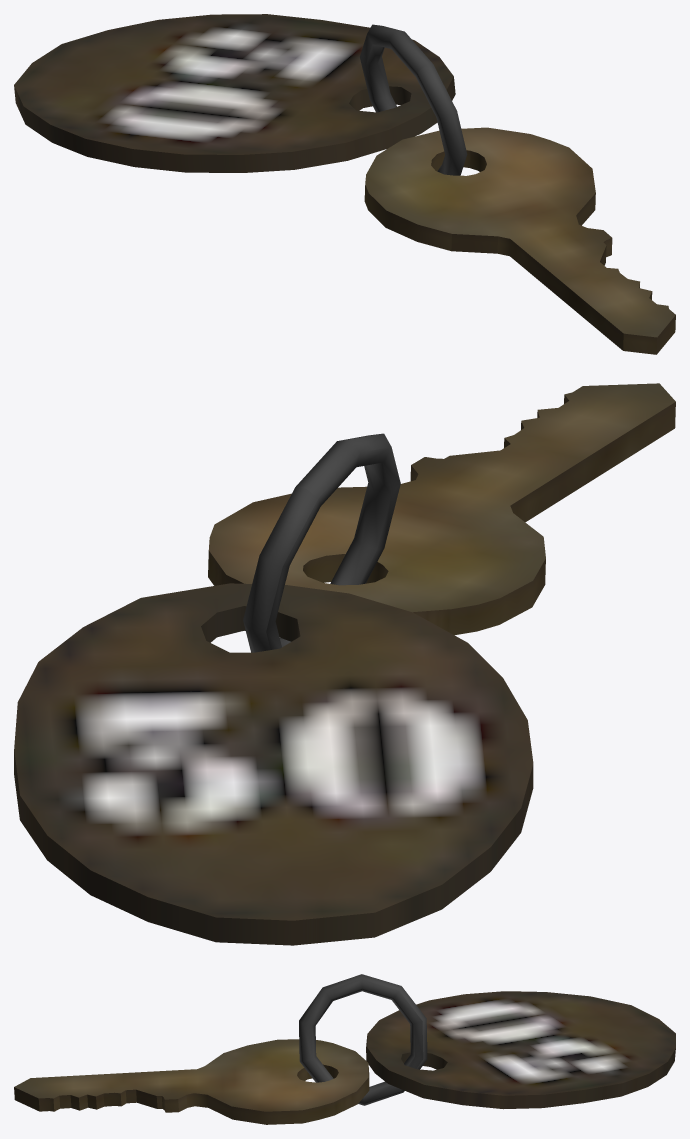
File: key_mp_2.obj
3 renders of one model, top to bottom at view 1: azimuth 30°, elevation 25°; view 2: azimuth 150°, elevation 25°; view 3: azimuth 270°, elevation 25°, orthographic. The views are drawn at different scales.
Parts seen in each view (by area): view 1: key_mp_2; view 2: key_mp_2; view 3: key_mp_2.
Part boxes in pixels (x1,y1,x2,y2): key_mp_2: (14, 14, 675, 354); key_mp_2: (14, 383, 675, 945); key_mp_2: (14, 974, 675, 1124).
Bounding box in the file's own units: 1.99 × 0.8655 × 4.38.
1 material, 1 textured.
